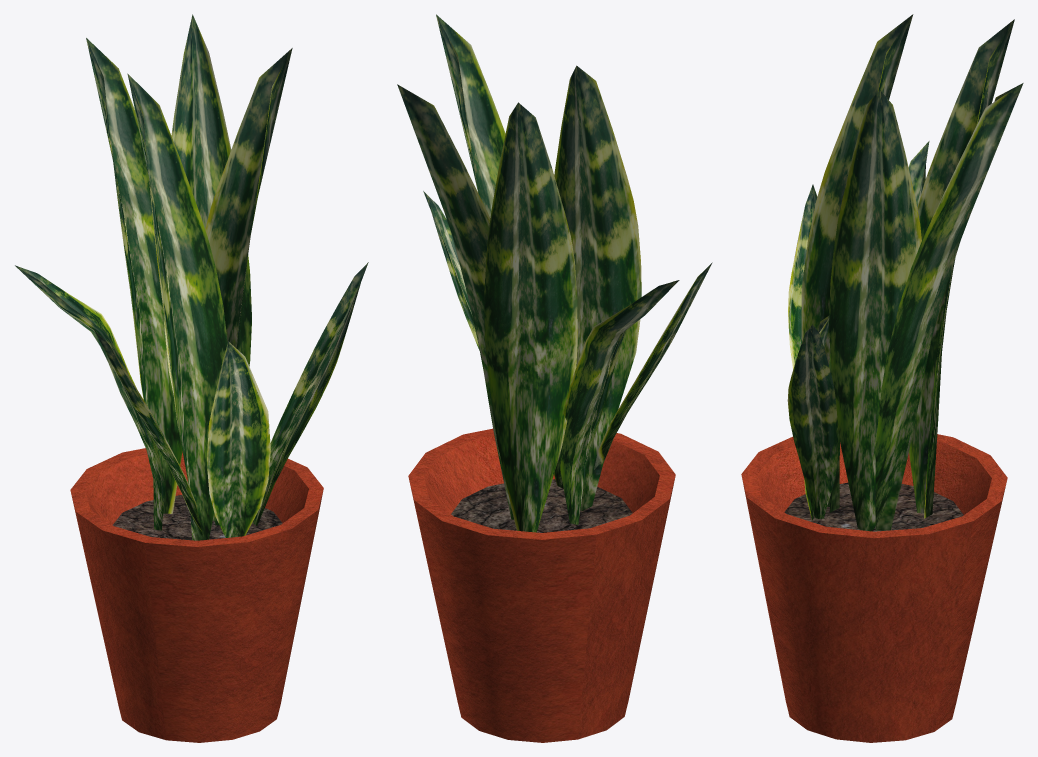
File: Snake_plant.glb
3 views of the same model, side by side, from view 1: azimuth 30°, elevation 25°; view 2: azimuth 150°, elevation 25°; view 3: azimuth 270°, elevation 25° (orthographic). The views are drawn at different scales.
Parts seen in each view (by area): view 1: polySurface90; view 2: polySurface90; view 3: polySurface90.
Boxes of the visible parts, x1,y1,x2,y2 form: polySurface90: [15, 14, 368, 742]; polySurface90: [397, 14, 712, 742]; polySurface90: [741, 14, 1023, 742].
Size of the model in its own units: 0.4051 by 0.8233 by 0.3153.
Materials: 1 (1 with a texture image).
